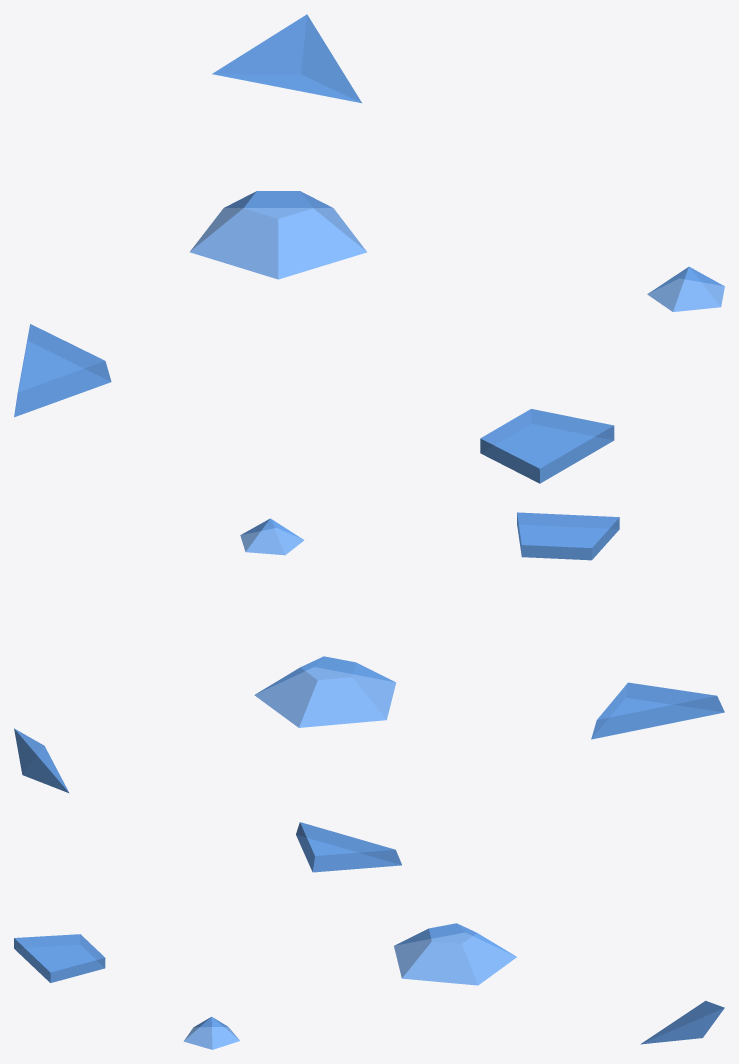
The model's file is Crystals_s_01.fbx.
3 renders of one model, top to bottom at view 1: azimuth 30°, elevation 25°; view 2: azimuth 150°, elevation 25°; view 3: azimuth 270°, elevation 25°, orthographic. The views are drawn at different scales.
Parts seen in each view (by area): view 1: Crystals_s_01; view 2: Crystals_s_01; view 3: Crystals_s_01.
Boxes of the visible parts, x1=… form: Crystals_s_01: x1=14, y1=14, x2=724, y2=483; Crystals_s_01: x1=14, y1=512, x2=724, y2=793; Crystals_s_01: x1=14, y1=822, x2=724, y2=1049.
Size of the model in its own units: 70.72 by 5.95 by 94.06.
